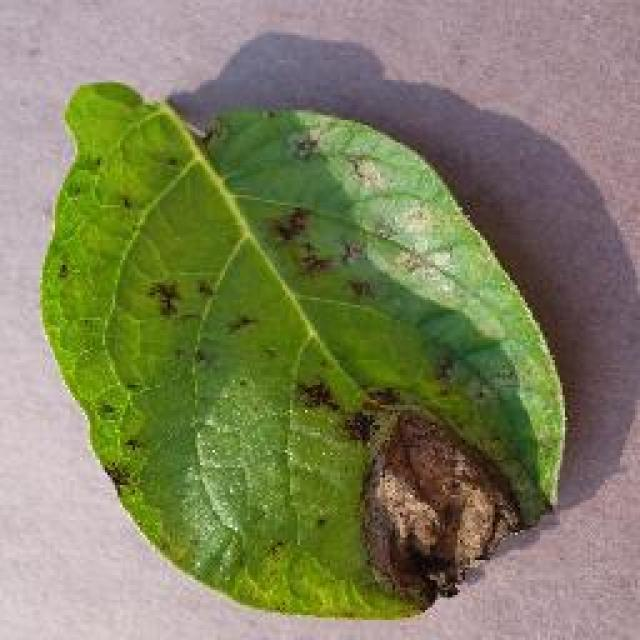Late_blight: (44, 77, 576, 622)
